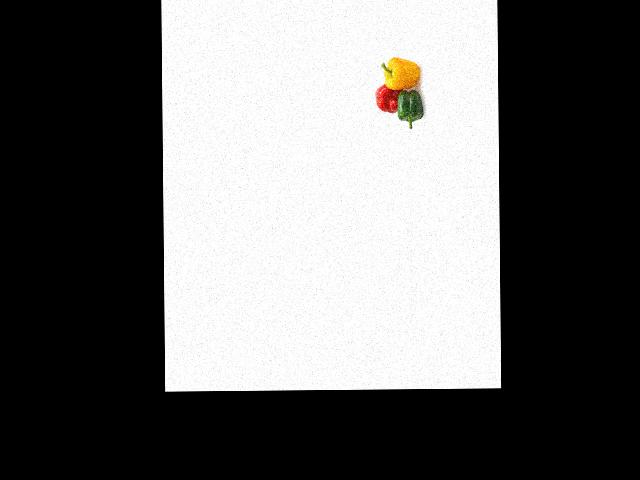bell_pepper: (393, 83, 423, 125)
